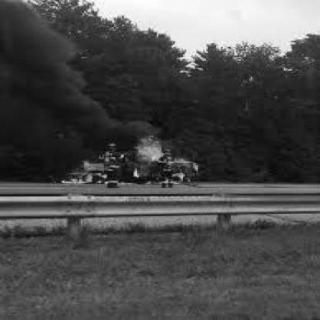Fire: (55, 128, 207, 190)
Smoke: (0, 1, 130, 153)
